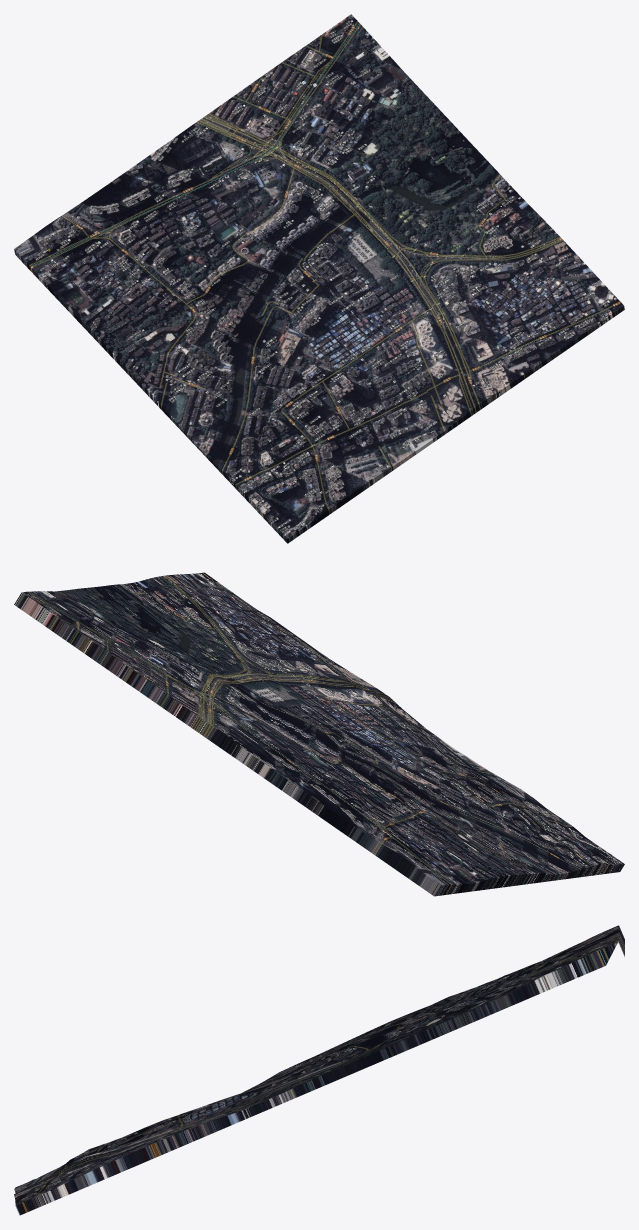
3 renders of one model, top to bottom at view 1: azimuth 30°, elevation 25°; view 2: azimuth 150°, elevation 25°; view 3: azimuth 270°, elevation 25°, orthographic. The views are drawn at different scales.
Visible parts, largest first — view 1: 1_7_7; view 2: 1_7_7; view 3: 1_7_7.
Part boxes in pixels (left/top/right/bottom): 1_7_7: left=14, top=14, right=624, bottom=543; 1_7_7: left=14, top=572, right=624, bottom=896; 1_7_7: left=14, top=925, right=624, bottom=1215.
Bounding box in the file's own units: 1233 × 910 × 1130.
Materials: 1 (1 with a texture image).
